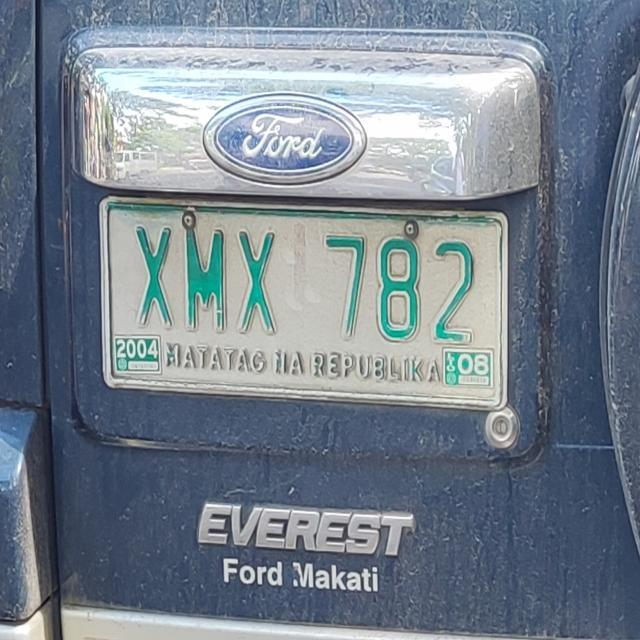LicensePlate: (88, 192, 519, 426)
